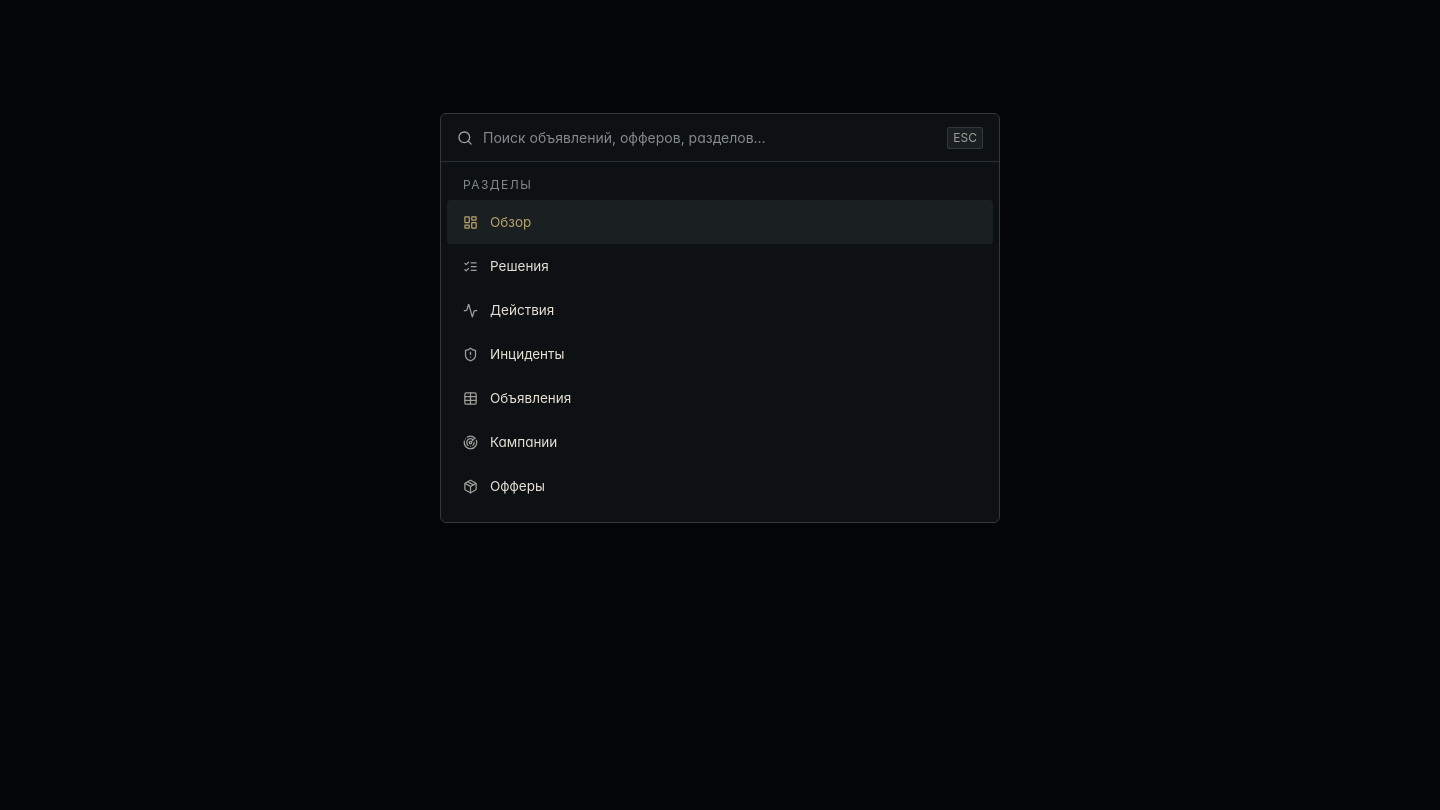
Scenario: CommandPalette › ищет объявления только через typed operator endpoint
Type "GH" into the field labelled "Поиск" at [710, 138], box [483,127,937,148]
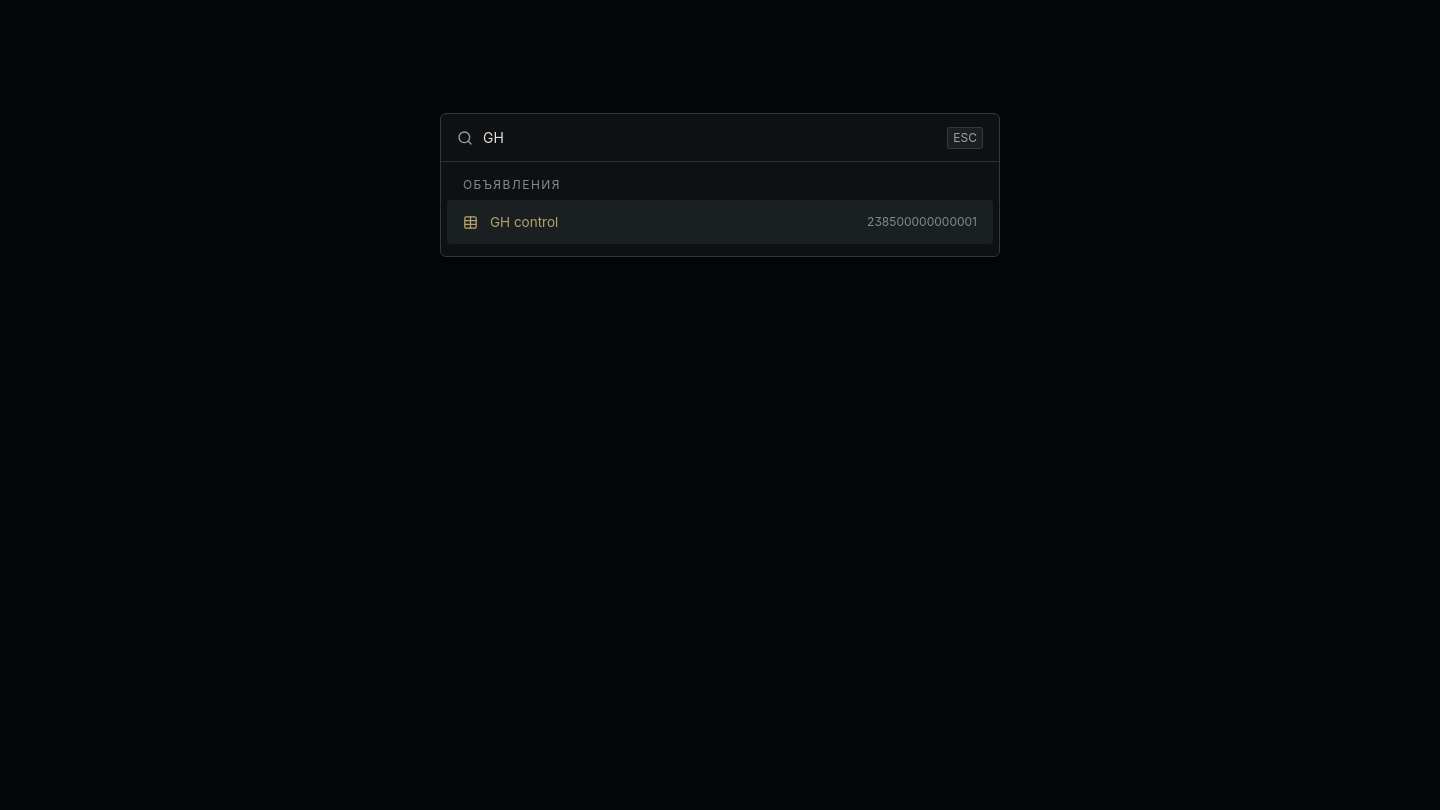
Result: the text "GH control" is shown at [490,214,558,230]
